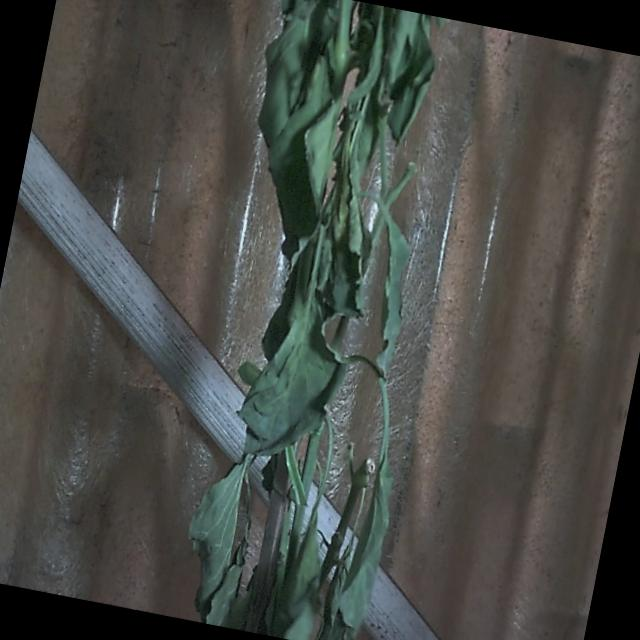Leaf: (235, 224, 374, 470), (254, 22, 359, 256), (174, 456, 250, 622), (337, 452, 400, 640), (367, 222, 422, 386)
